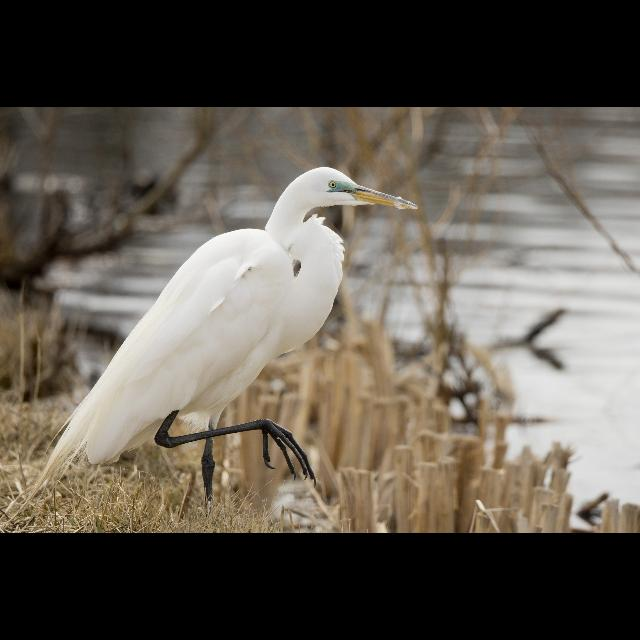egret: (60, 155, 428, 510)
